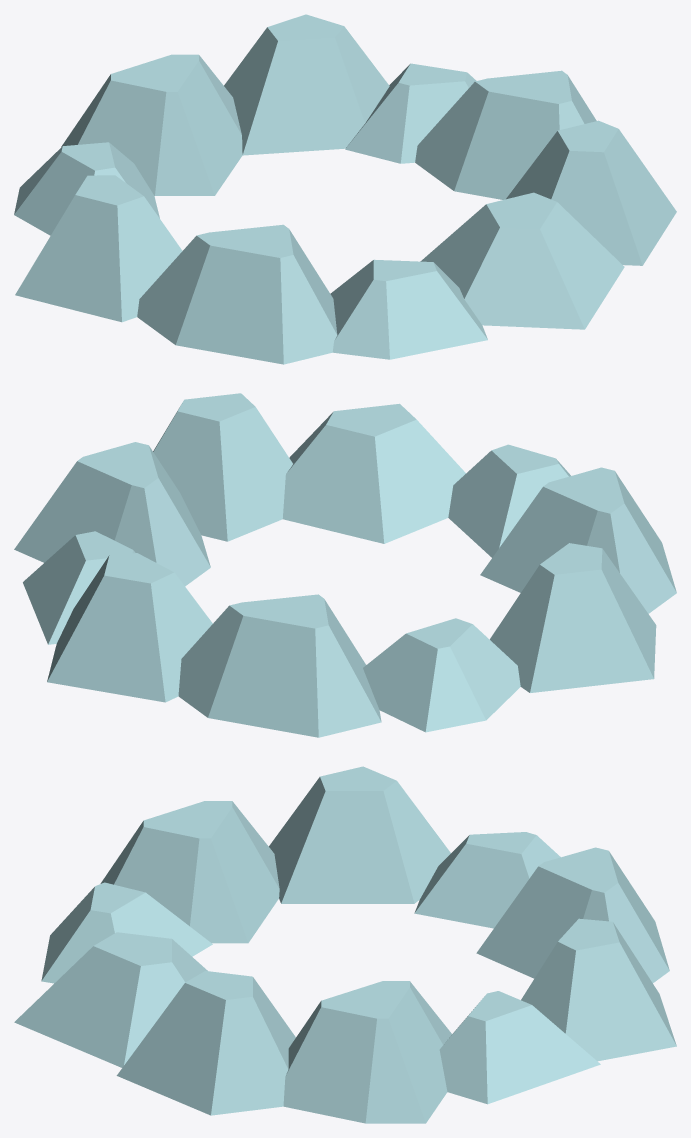
3 renders of one model, top to bottom at view 1: azimuth 30°, elevation 25°; view 2: azimuth 150°, elevation 25°; view 3: azimuth 270°, elevation 25°, orthographic. The views are drawn at different scales.
Parts seen in each view (by area): view 1: campfire_stones; view 2: campfire_stones; view 3: campfire_stones.
Part boxes in pixels (x1,y1,x2,y2): campfire_stones: (14,14,676,364); campfire_stones: (14,393,676,737); campfire_stones: (14,766,676,1123).
Bounding box in the file's own units: 0.5408 × 0.0778 × 0.5155.
